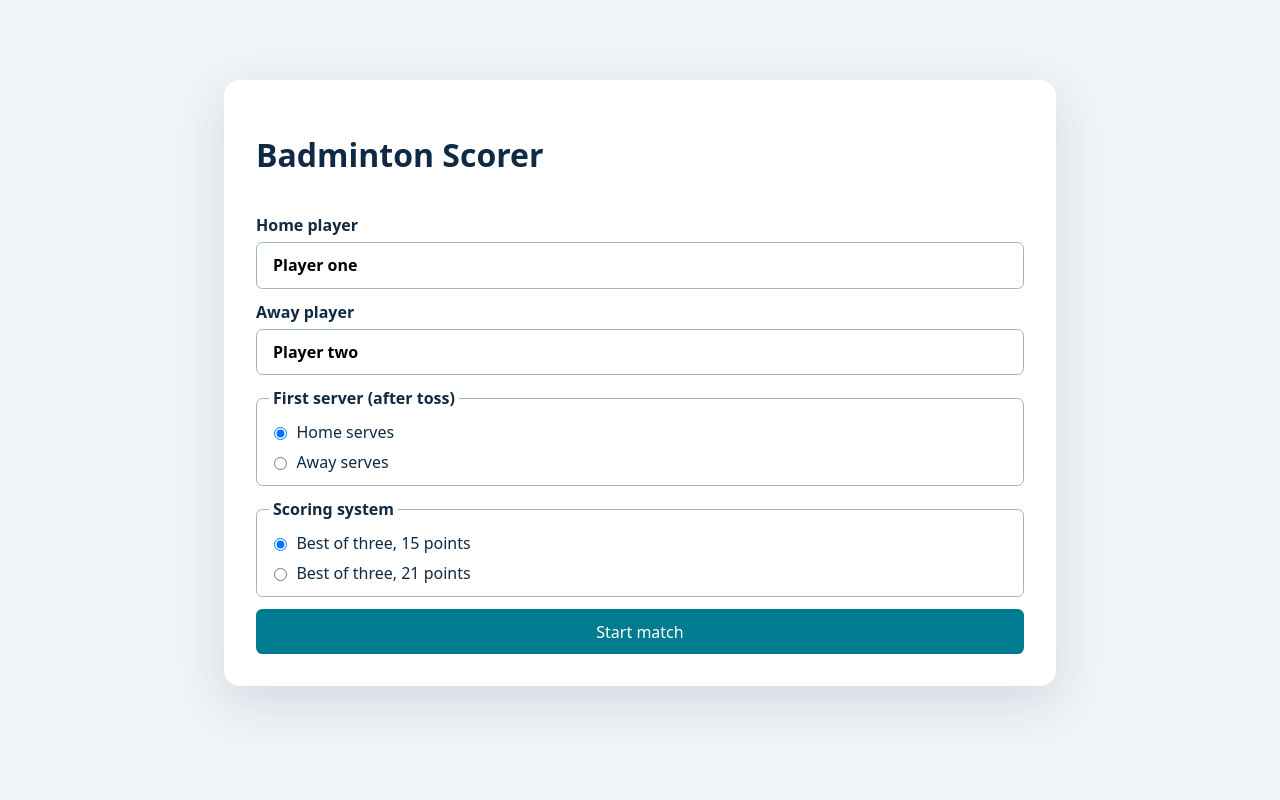
Test case: match scoring workflow › shows a clear network failure after a point request fails
What coordinates should you click on to do the following:
click the button "Start match"
I would click on:
 (640, 632)
Its box is top-left (256, 609), bottom-right (1024, 654).
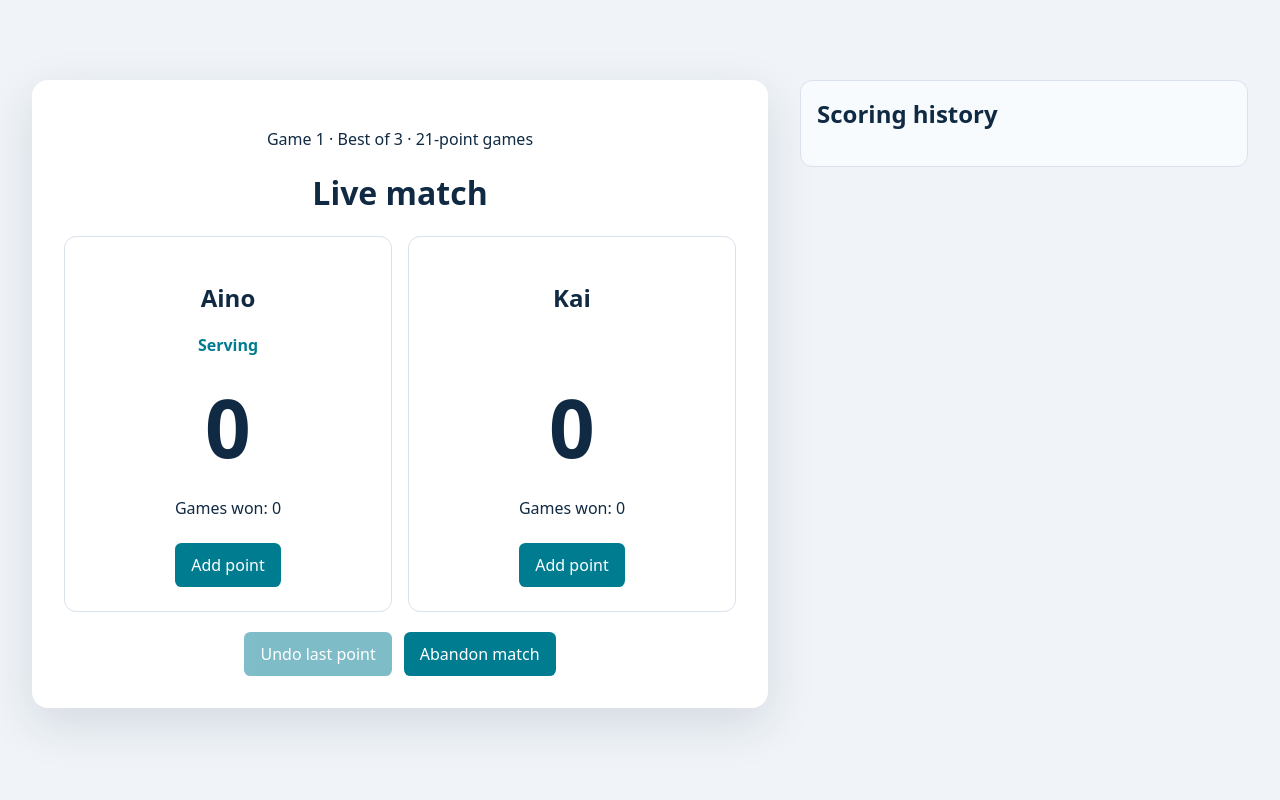
Expected: the heading "Live match" is shown, top-left (312, 171), bottom-right (488, 214)
What coordinates should you click on to do the following:
click the button with aria-label "Add point for Aino"
I would click on:
 (228, 565)
Its box is top-left (175, 543), bottom-right (281, 587).
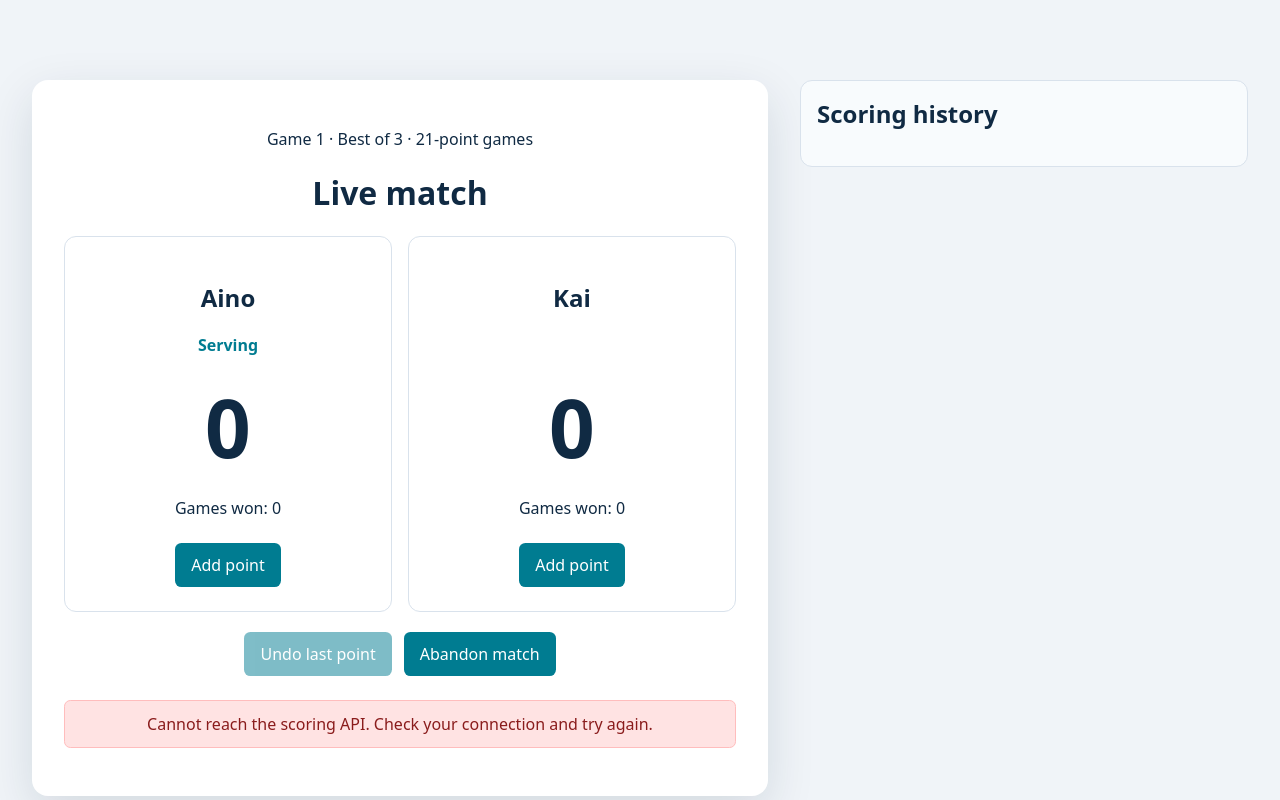
Expected: the message reads "Cannot reach the scoring API. Check your connection and try again.", top-left (147, 713), bottom-right (653, 735)
